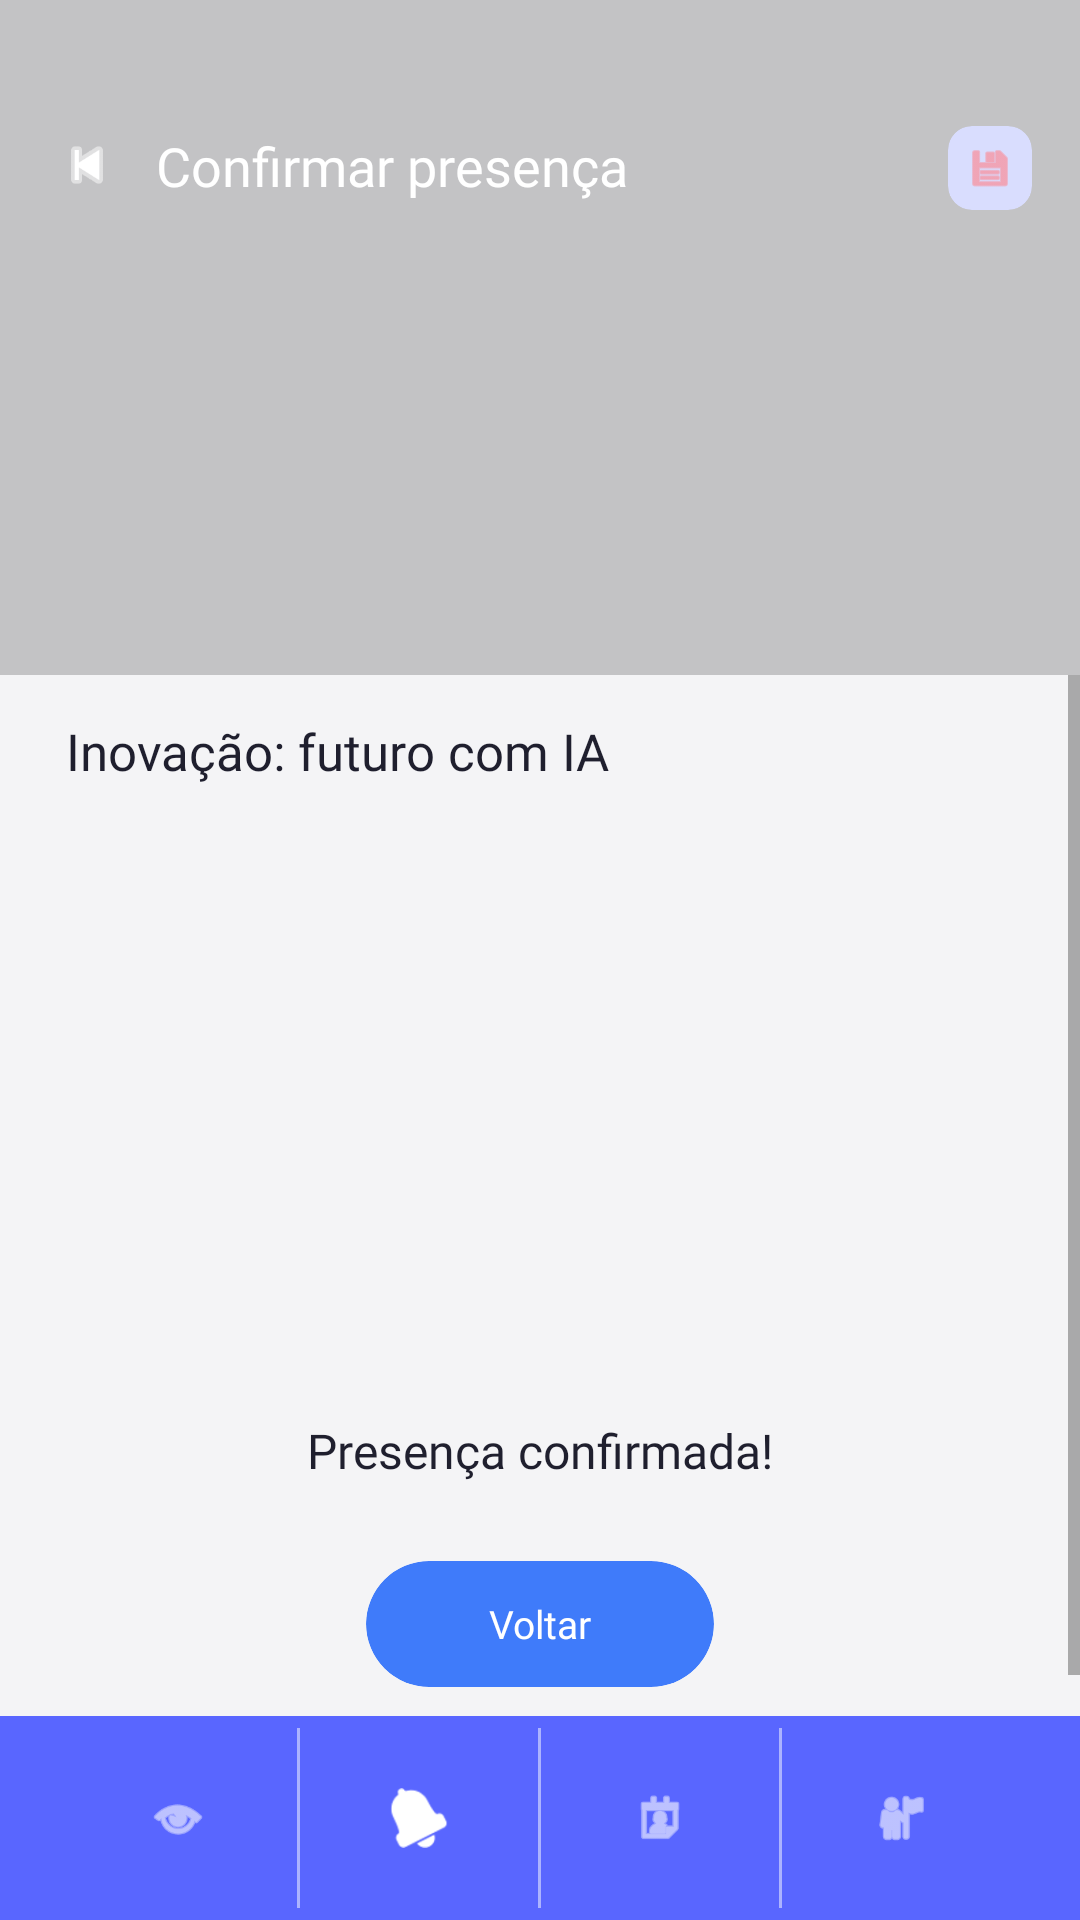

Locate icon controls on the screen. Image size 1080×1920, boxes as bbox=(x1, y1, x2, y2).
Calendário: bbox=(641, 1795, 679, 1839)
Perfil: bbox=(879, 1796, 924, 1840)
popup reminder: bbox=(391, 1788, 447, 1848)
Salvar: bbox=(972, 150, 1008, 186)
view: bbox=(154, 1804, 202, 1835)
Voltar: bbox=(71, 147, 103, 183)
